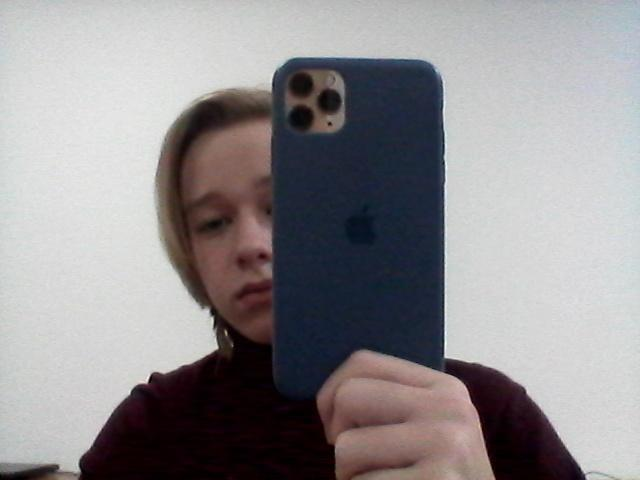PhoneUse: (250, 37, 462, 419)
SafeDriving: (190, 198, 238, 244)
